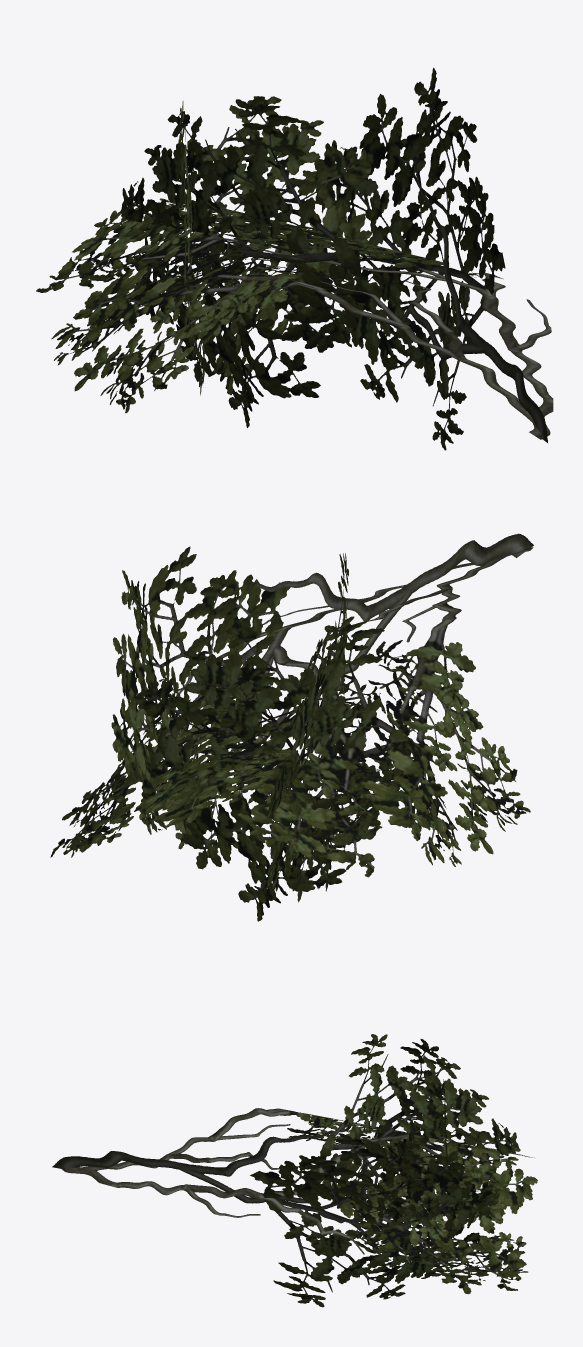
The model's file is MEP_Oak_Part_02.fbx.
3 views of the same model, one above another, from view 1: azimuth 30°, elevation 25°; view 2: azimuth 150°, elevation 25°; view 3: azimuth 270°, elevation 25° (orthographic). The views are drawn at different scales.
Parts seen in each view (by area): view 1: MEP_Oak_Part_02; view 2: MEP_Oak_Part_02; view 3: MEP_Oak_Part_02.
Part boxes in pixels (left/top/right/bottom): MEP_Oak_Part_02: left=36, top=67, right=553, bottom=450; MEP_Oak_Part_02: left=50, top=533, right=533, bottom=921; MEP_Oak_Part_02: left=52, top=1034, right=537, bottom=1307.
Bounding box in the file's own units: 5.18 × 5.13 × 8.93.
